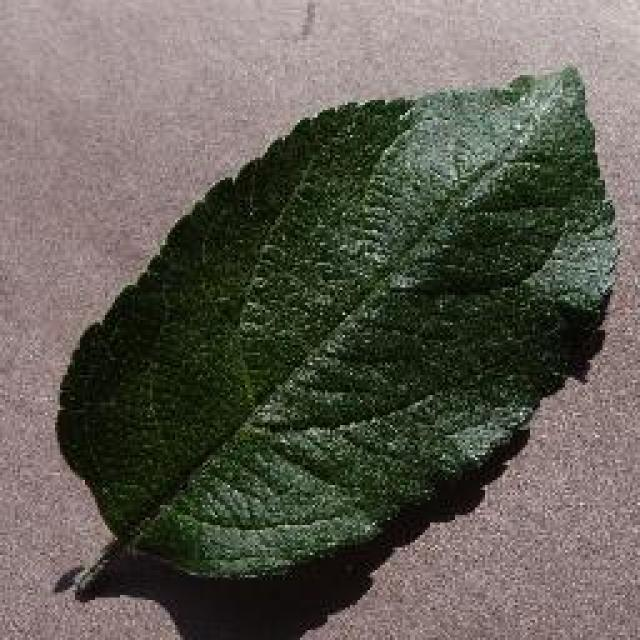apple scab disease: (52, 63, 620, 595)
